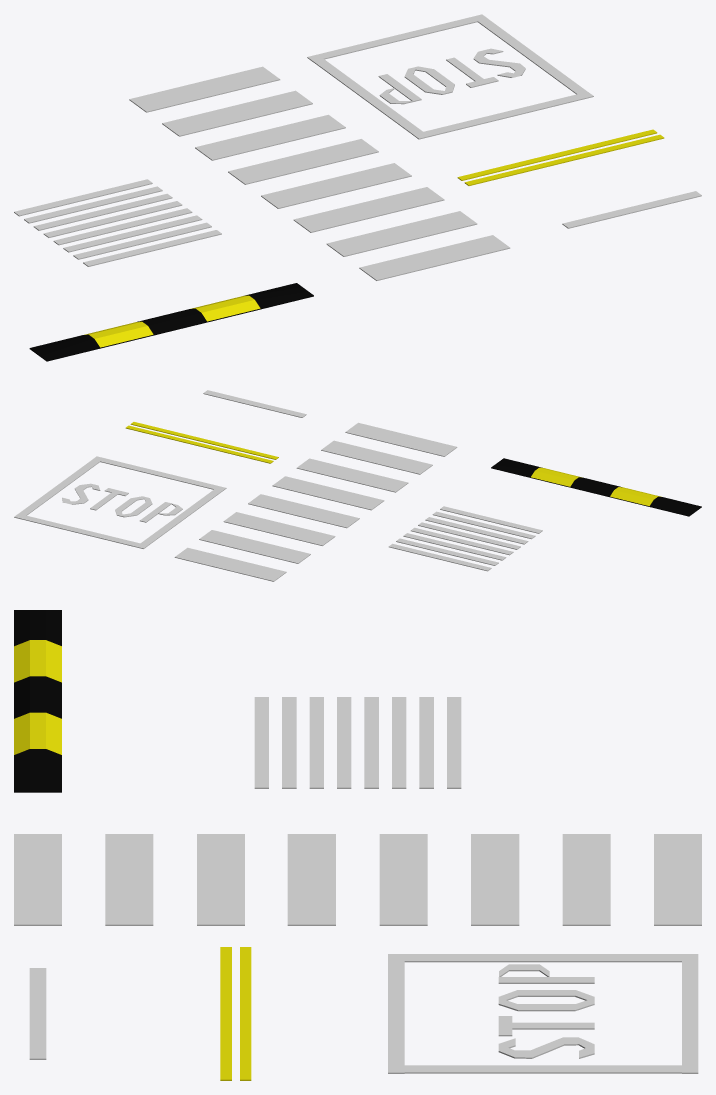
3 views of the same model, one above another, from view 1: azimuth 30°, elevation 25°; view 2: azimuth 150°, elevation 25°; view 3: azimuth 270°, elevation 25° (orthographic). The views are drawn at different scales.
Visible parts, largest first — view 1: Cube.018, Cube.017, Cube.002, Cube, Cube.001, Cube.004, Cube.006, Cube.007, Cube.005, Cube.003, Cube.019, Cube.008 (+8 smaller); view 2: Cube.018, Cube.017, Cube, Cube.001, Cube.004, Cube.002, Cube.003, Cube.005, Cube.007, Cube.006, Cube.019, Cube.008 (+8 smaller); view 3: Cube.018, Cube.017, Cube.001, Cube.003, Cube.004, Cube.005, Cube.006, Cube, Cube.002, Cube.007, Cube.019, Cube.008 (+9 smaller).
Part boxes in pixels (left/top/right/bottom): Cube.018: left=307, top=14, right=593, bottom=139; Cube.017: left=29, top=283, right=313, bottom=361; Cube.002: left=293, top=187, right=444, bottom=232; Cube: left=359, top=235, right=510, bottom=280; Cube.001: left=326, top=211, right=477, bottom=256; Cube.004: left=228, top=139, right=378, bottom=184; Cube.006: left=162, top=90, right=312, bottom=136; Cube.007: left=129, top=66, right=280, bottom=112; Cube.005: left=195, top=114, right=345, bottom=160; Cube.003: left=261, top=163, right=411, bottom=208; Cube.019: left=457, top=129, right=664, bottom=185; Cube.008: left=562, top=191, right=701, bottom=228; Cube.018: left=14, top=456, right=226, bottom=548; Cube.017: left=491, top=458, right=701, bottom=516; Cube: left=345, top=422, right=457, bottom=456; Cube.001: left=321, top=440, right=432, bottom=474; Cube.004: left=248, top=494, right=359, bottom=528; Cube.002: left=296, top=458, right=408, bottom=492; Cube.003: left=272, top=476, right=384, bottom=510; Cube.005: left=223, top=512, right=335, bottom=545; Cube.007: left=174, top=547, right=286, bottom=581; Cube.006: left=199, top=530, right=310, bottom=563; Cube.019: left=125, top=422, right=278, bottom=463; Cube.008: left=203, top=390, right=306, bottom=417; Cube.018: left=388, top=954, right=698, bottom=1073; Cube.017: left=14, top=610, right=61, bottom=792; Cube.001: left=105, top=834, right=153, bottom=925; Cube.003: left=287, top=834, right=335, bottom=925; Cube.004: left=379, top=834, right=427, bottom=925; Cube.005: left=471, top=834, right=519, bottom=925; Cube.006: left=562, top=834, right=610, bottom=925; Cube: left=14, top=834, right=61, bottom=925; Cube.002: left=197, top=834, right=244, bottom=925; Cube.007: left=654, top=834, right=701, bottom=925; Cube.019: left=220, top=947, right=251, bottom=1080; Cube.008: left=29, top=968, right=46, bottom=1059.
Bounding box in the file's own units: 1035 × 7.85 × 641.
